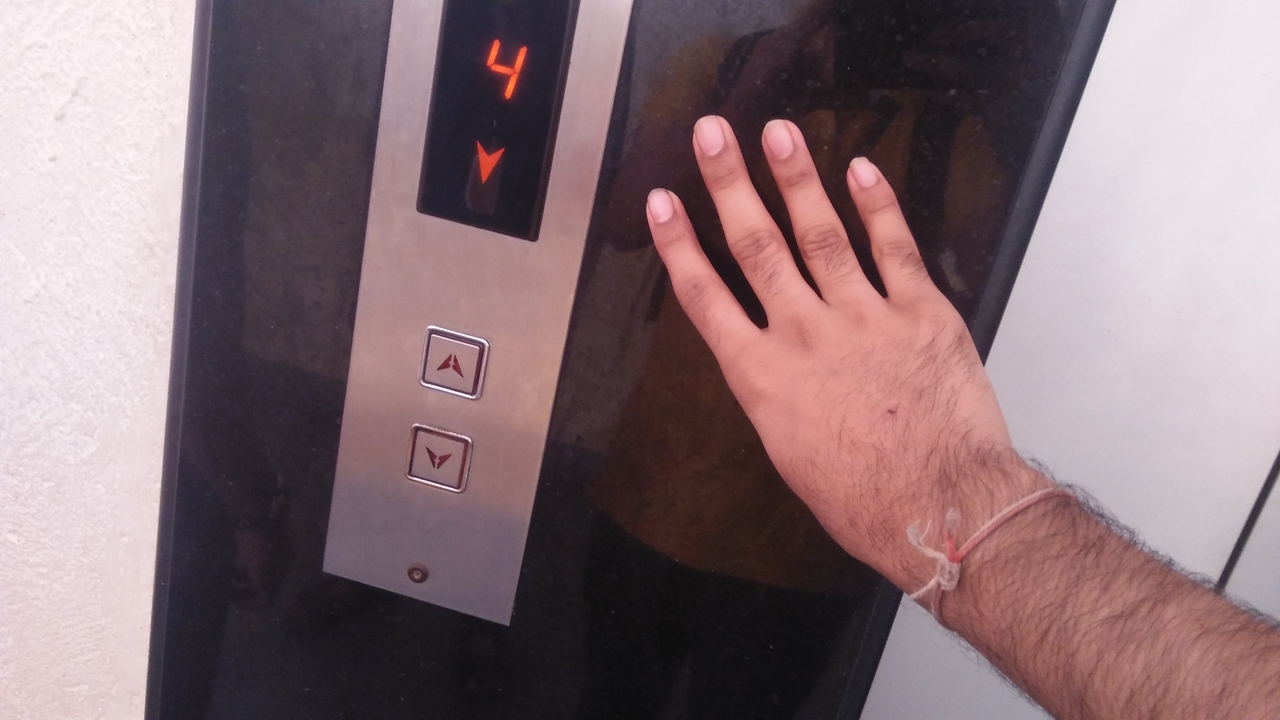fingertip: (684, 104, 744, 166), (838, 142, 900, 202), (636, 176, 694, 236), (754, 110, 816, 164)
